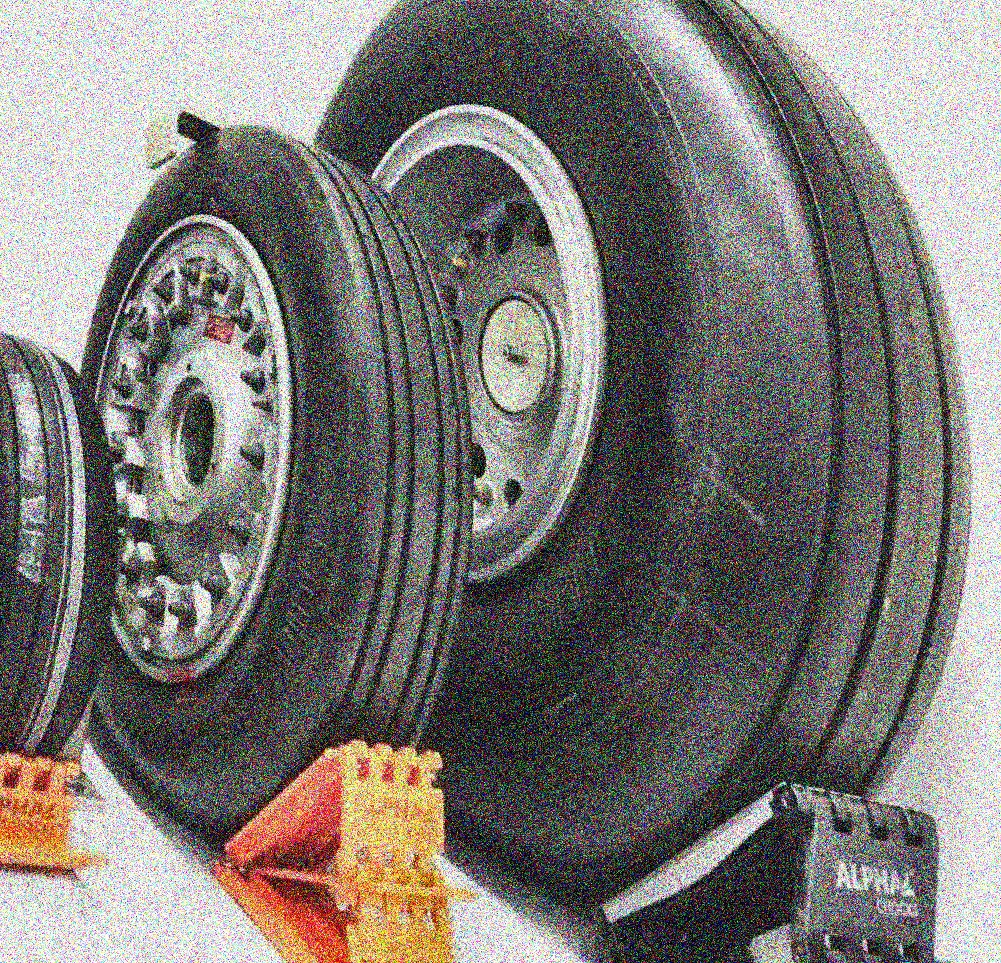chock: (521, 665, 1001, 963), (178, 663, 533, 963), (0, 695, 131, 940)
wheel: (164, 0, 1001, 963), (3, 68, 574, 916), (0, 300, 178, 850)
